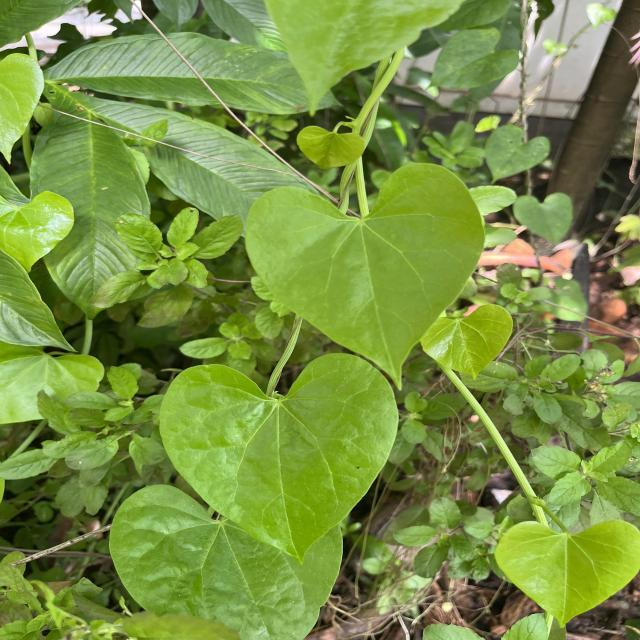Tinospora cordifolia: (240, 158, 491, 395), (154, 349, 403, 571), (491, 512, 640, 630)
